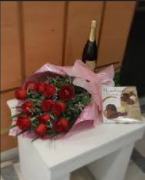RedRose: (14, 115, 34, 135), (52, 118, 72, 135), (15, 87, 30, 100)
